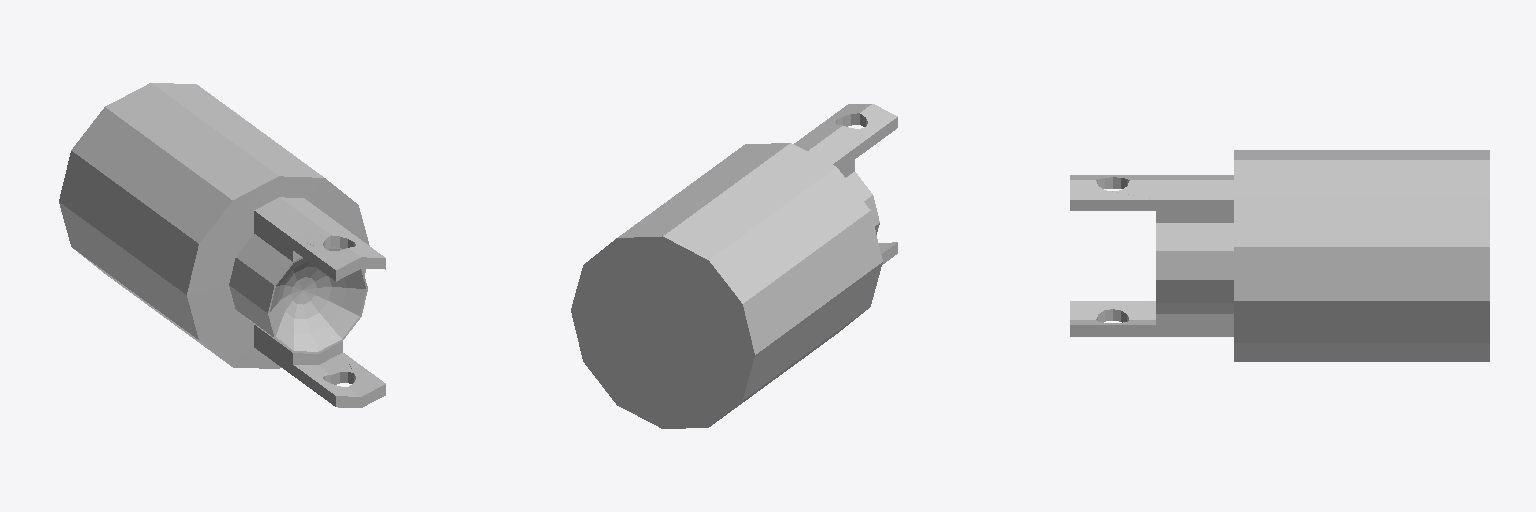
The model's file is WallGunBase - Copy.obj.
The picture shows the model from 3 angles: view 1: azimuth 30°, elevation 25°; view 2: azimuth 150°, elevation 25°; view 3: azimuth 270°, elevation 25°; orthographic projection.
Visible parts, largest first — view 1: Cube.001; view 2: Cube.001; view 3: Cube.001.
Boxes of the visible parts, box(x1,y1,x2,y2) form: Cube.001: box(59, 83, 385, 407); Cube.001: box(571, 104, 897, 428); Cube.001: box(1070, 150, 1489, 361).
Bounding box in the file's own units: 4.04 × 4.04 × 7.98.